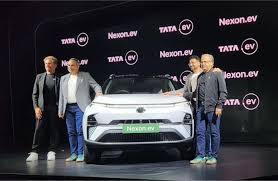Tata Nexon: (82, 72, 196, 162)
